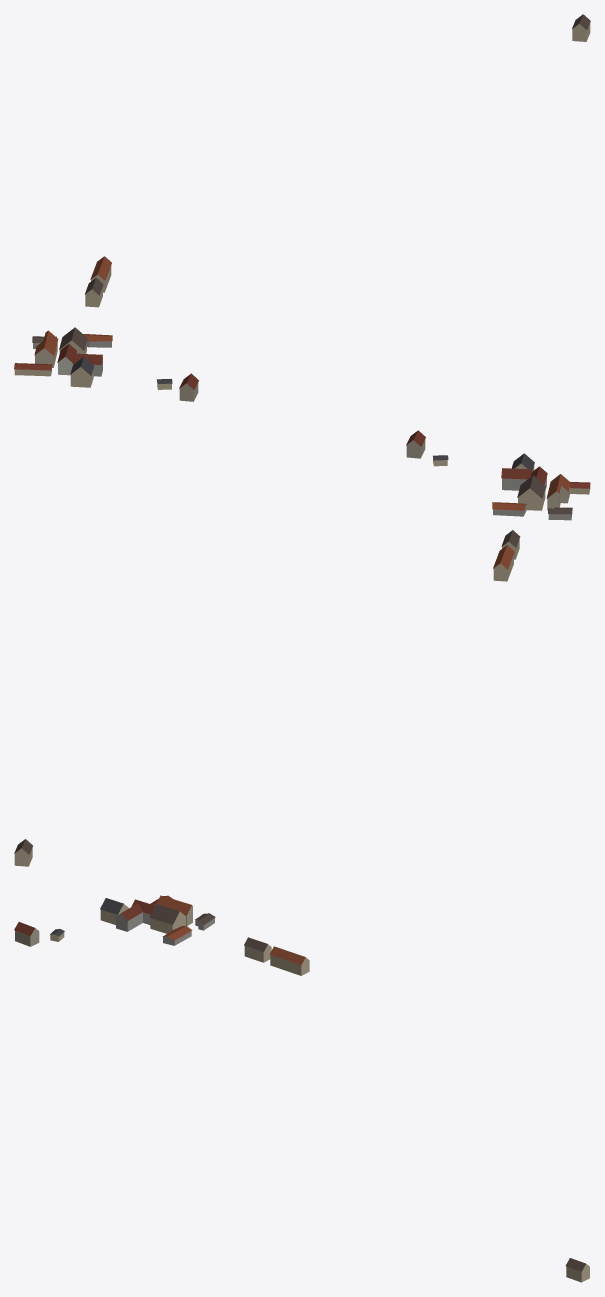
3 renders of one model, top to bottom at view 1: azimuth 30°, elevation 25°; view 2: azimuth 210°, elevation 25°; view 3: azimuth 270°, elevation 25°, orthographic. The views are drawn at different scales.
Parts seen in each view (by area): view 1: buildings; view 2: buildings; view 3: buildings.
Boxes of the visible parts, x1=… form: buildings: x1=14, y1=14, x2=590, y2=401; buildings: x1=14, y1=430, x2=590, y2=866; buildings: x1=14, y1=895, x2=589, y2=1282.
Bounding box in the file's own units: 412 × 20.95 × 275.
